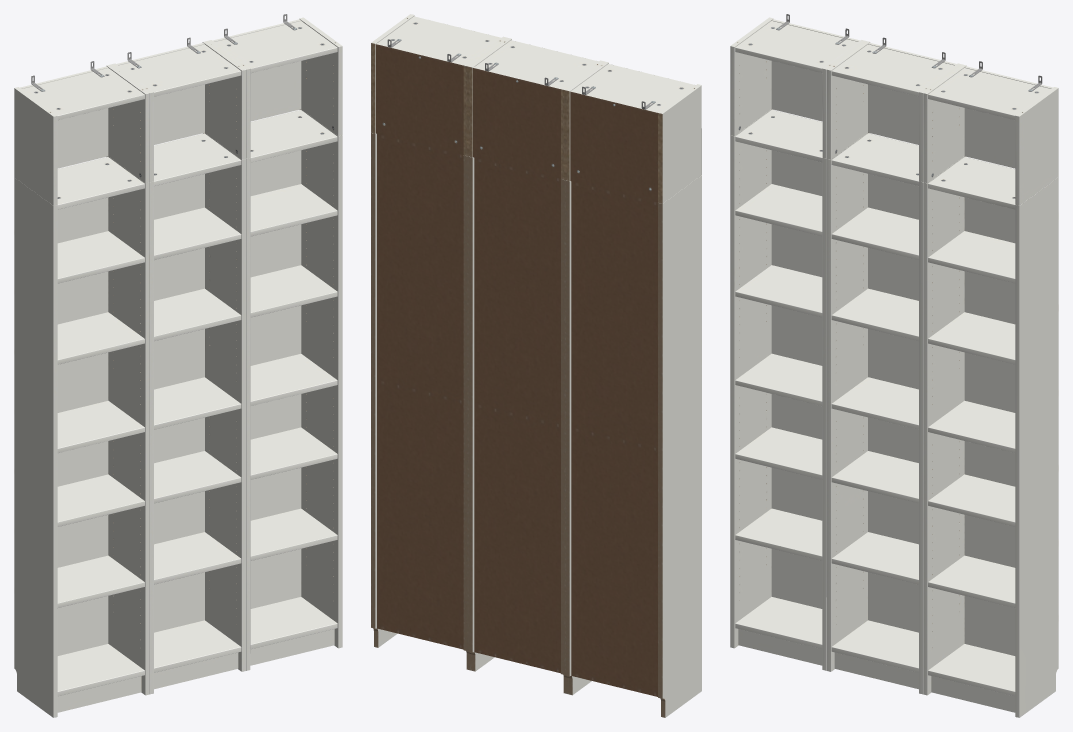
File: billy_rega_39017839.glb
3 renders of one model, left to right at view 1: azimuth 30°, elevation 25°; view 2: azimuth 150°, elevation 25°; view 3: azimuth 330°, elevation 25°, orthographic.
Visible parts, largest first — view 1: billy_rega_39017839; view 2: billy_rega_39017839; view 3: billy_rega_39017839.
Boxes of the visible parts, x1=… form: billy_rega_39017839: x1=14, y1=14, x2=342, y2=717; billy_rega_39017839: x1=371, y1=14, x2=701, y2=717; billy_rega_39017839: x1=730, y1=14, x2=1058, y2=717.
Size of the model in its own units: 1.19 by 2.4 by 0.28.
Materials: 1 (1 with a texture image).
